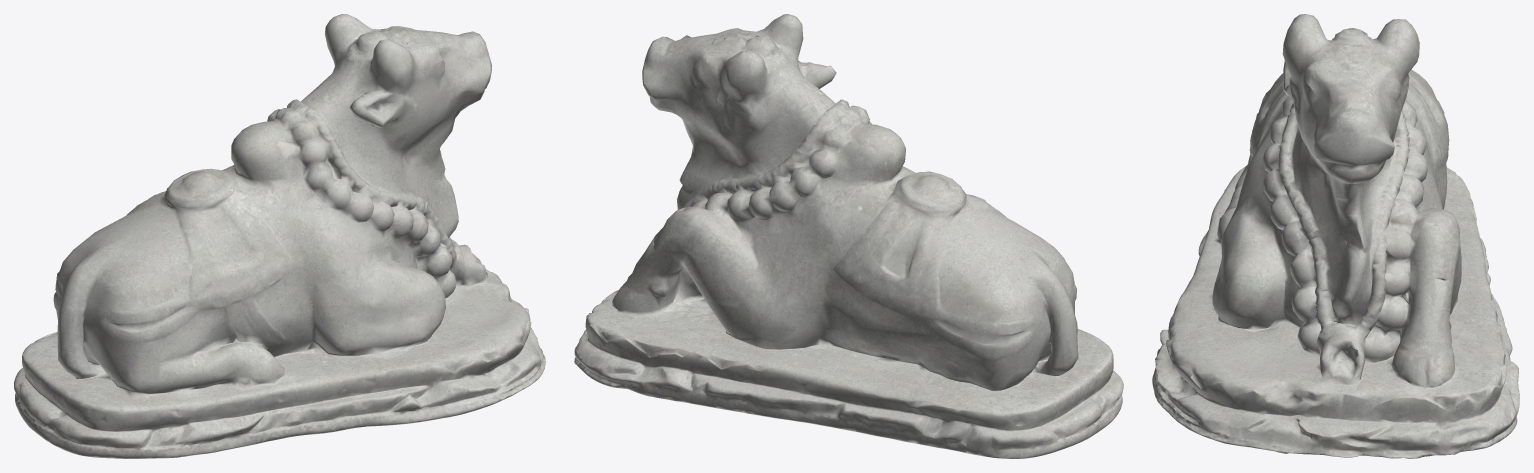
File: Nandi-v2.glb
3 renders of one model, left to right at view 1: azimuth 30°, elevation 25°; view 2: azimuth 150°, elevation 25°; view 3: azimuth 270°, elevation 25°, orthographic. The views are drawn at different scales.
Visible parts, largest first — view 1: tripo_node_7f317d2b-736c-4c68-bb01-ed0dcbedbae1; view 2: tripo_node_7f317d2b-736c-4c68-bb01-ed0dcbedbae1; view 3: tripo_node_7f317d2b-736c-4c68-bb01-ed0dcbedbae1.
Part boxes in pixels (x1,y1,x2,y2): tripo_node_7f317d2b-736c-4c68-bb01-ed0dcbedbae1: [14, 14, 545, 458]; tripo_node_7f317d2b-736c-4c68-bb01-ed0dcbedbae1: [574, 14, 1123, 458]; tripo_node_7f317d2b-736c-4c68-bb01-ed0dcbedbae1: [1152, 14, 1519, 458].
Size of the model in its own units: 0.481 by 0.3132 by 0.286.
1 material, 1 textured.
